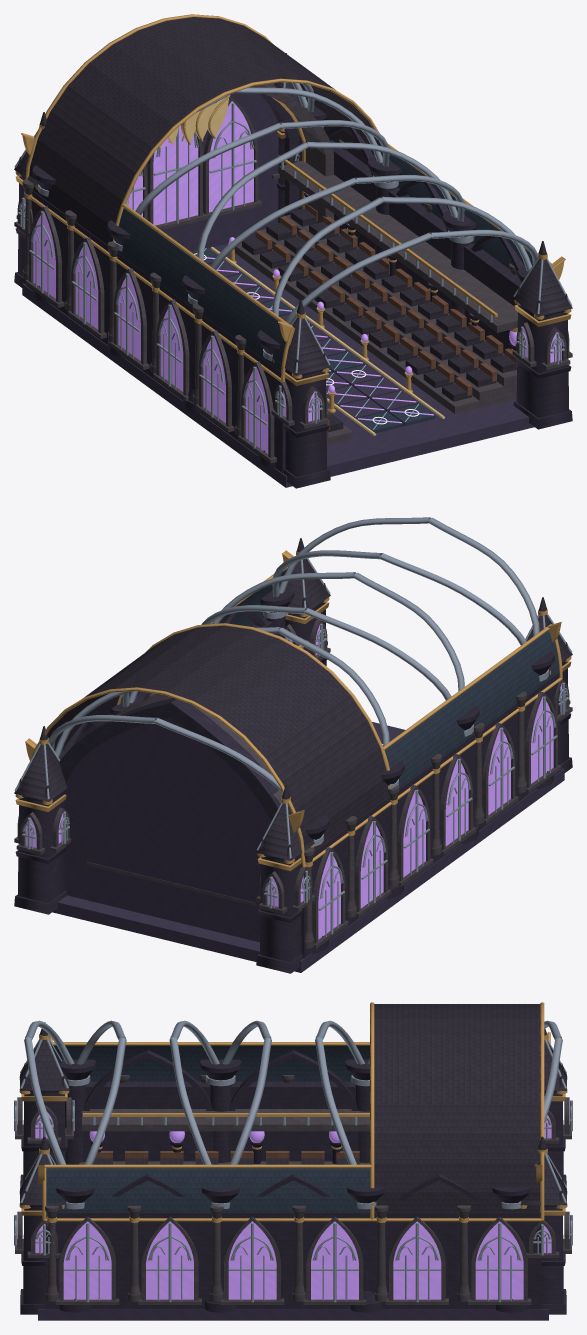
The model's file is dramatorium.glb.
3 renders of one model, top to bottom at view 1: azimuth 30°, elevation 25°; view 2: azimuth 150°, elevation 25°; view 3: azimuth 270°, elevation 25°, orthographic. The views are drawn at different scales.
Size of the model in its own units: 16.02 by 12.84 by 27.4.
Materials: 13 (13 with a texture image).
